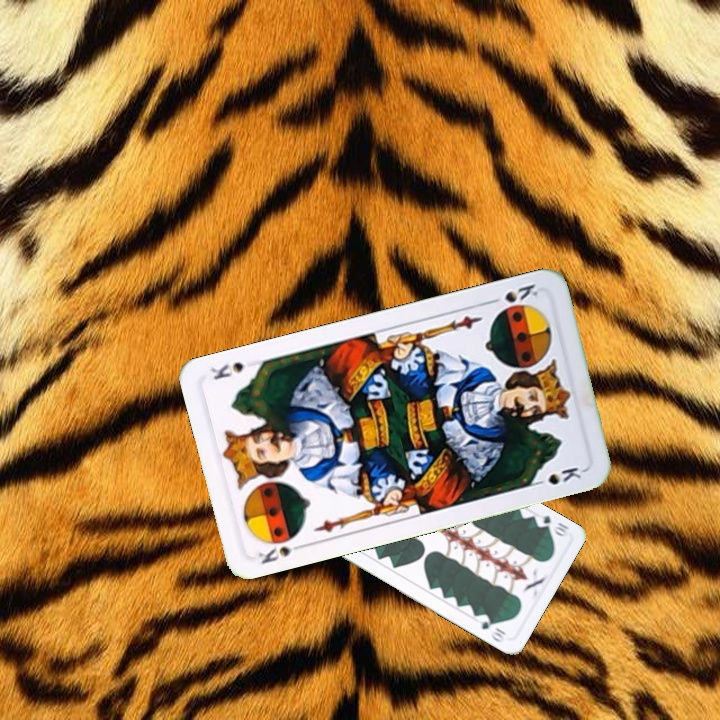G10: (531, 511, 571, 539)
SK: (254, 530, 309, 567), (484, 280, 541, 315)
